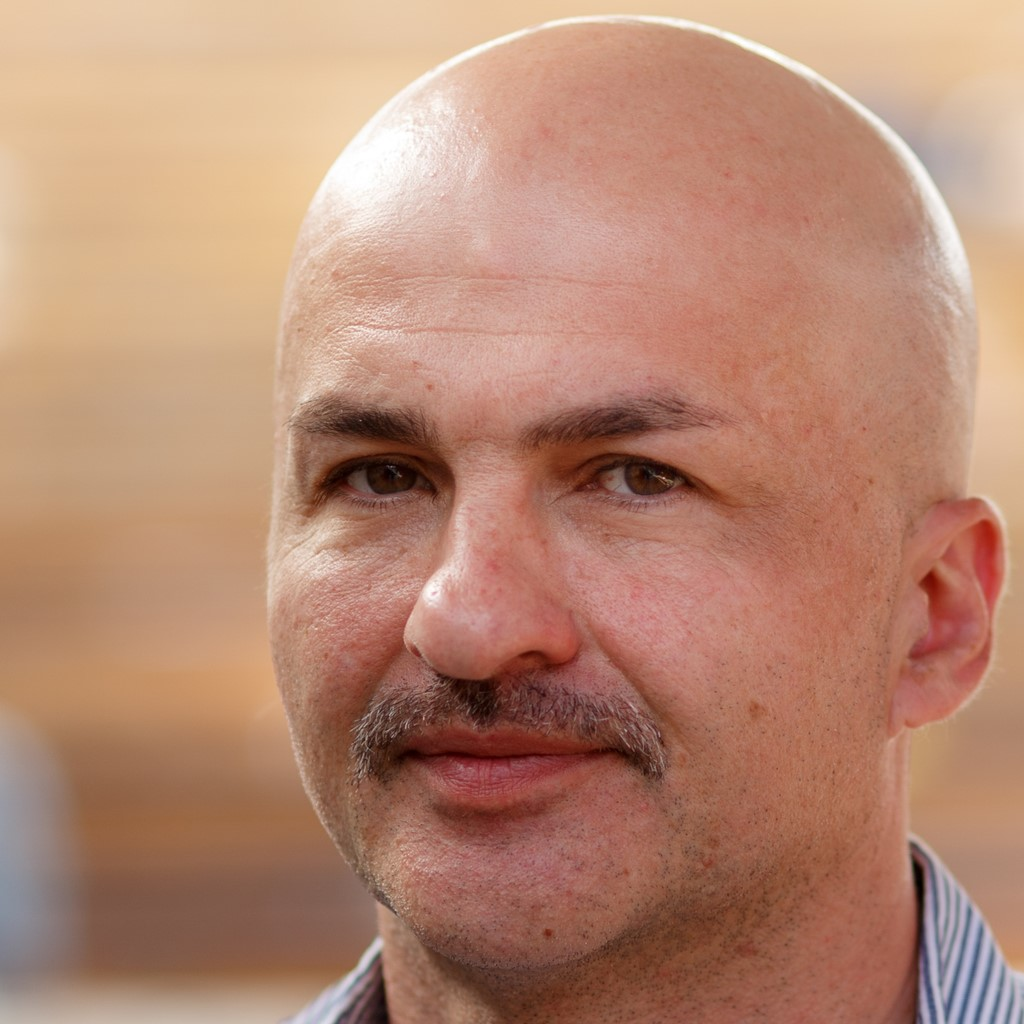sin_mascara: (257, 97, 895, 984)
